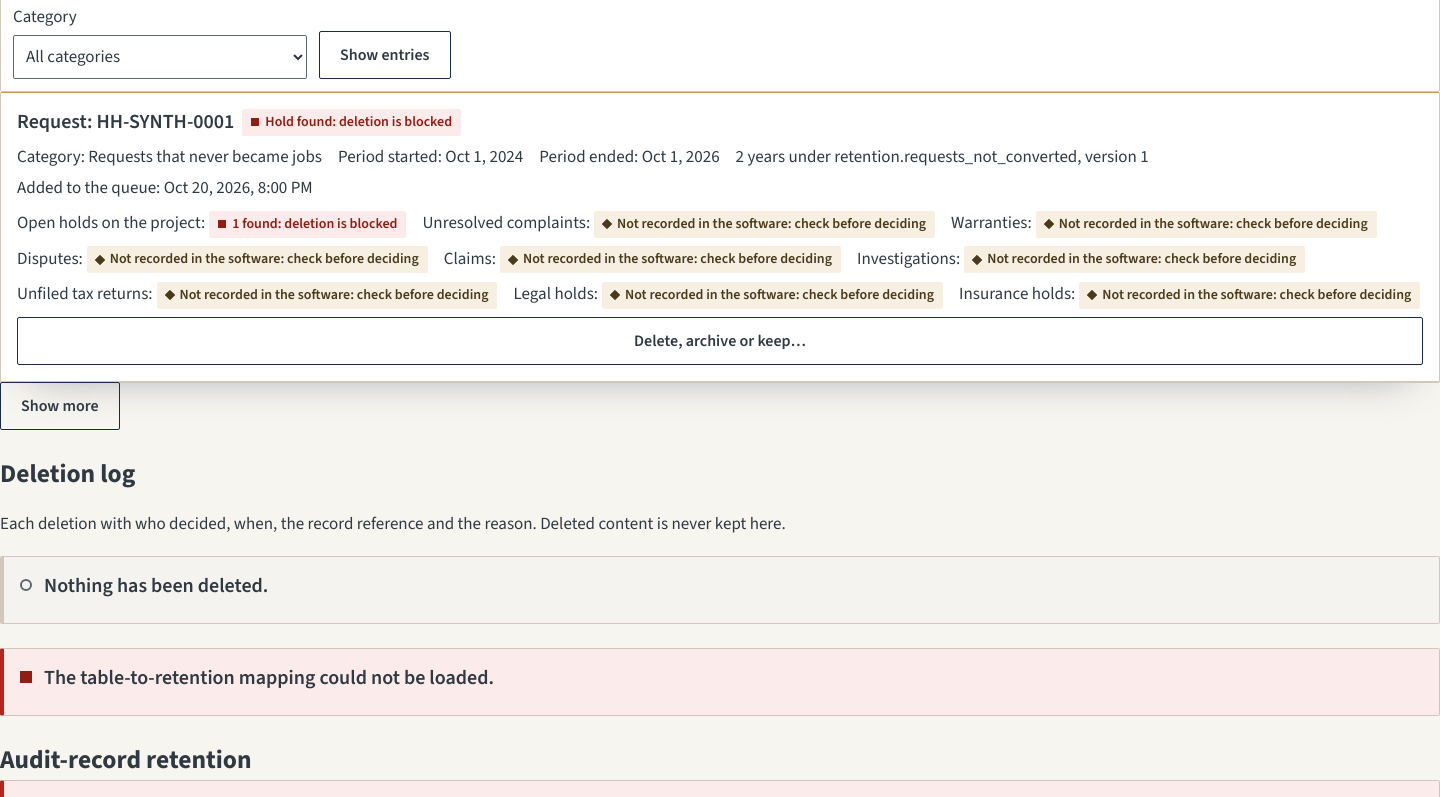
Test: retention reviews screen (TSK-0099, HH-PRIV-01) › [HH-PRIV-01] filters by category on the server and pages with the cursor
This screenshot has width=1440, height=797.
(page scrolled)
Check: the list item "Request: HH-SYNTH-0001" is shown, box x1=0 y1=92 x2=1439 y2=382
Click the button "Show more" at (60,406), box x1=0 y1=382 x2=120 y2=430
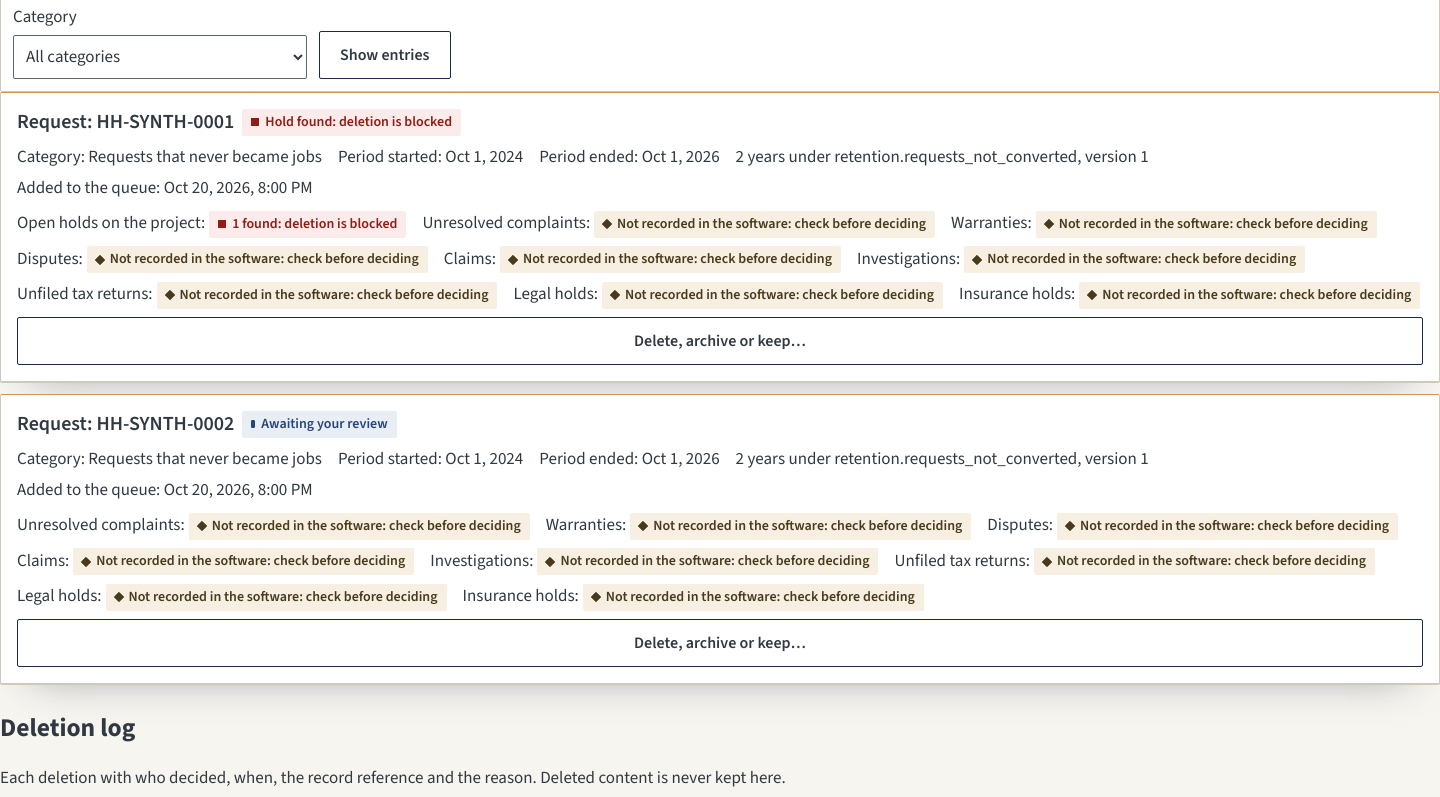
Check: the text "Awaiting your review" is shown, box x1=242 y1=411 x2=397 y2=438
Select "Audit-log records" in the dropdown labelled "Category" at (160,57), box x1=13 y1=35 x2=307 y2=79
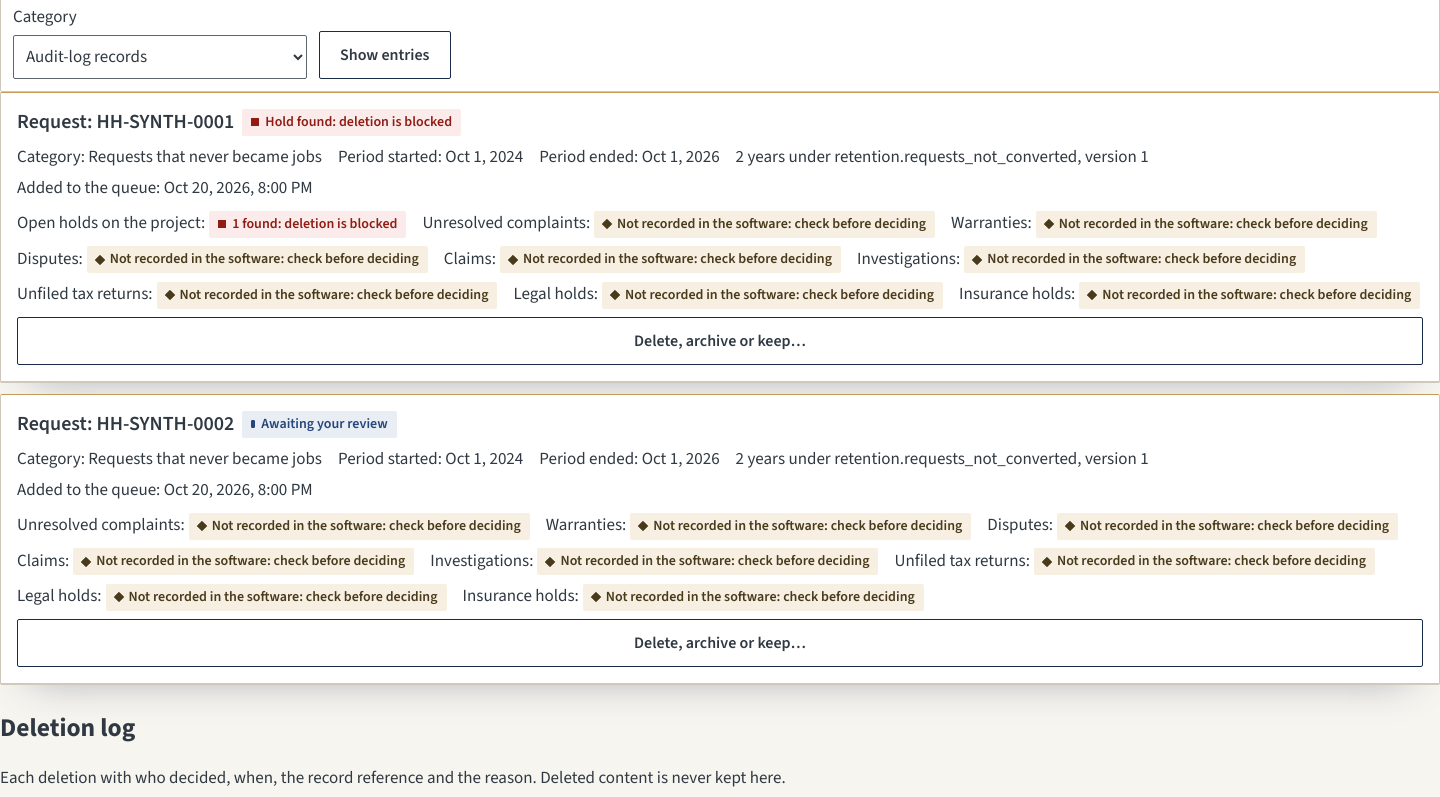
Click the button "Show entries" at (385,55), box x1=319 y1=31 x2=450 y2=79
(page scrolled)
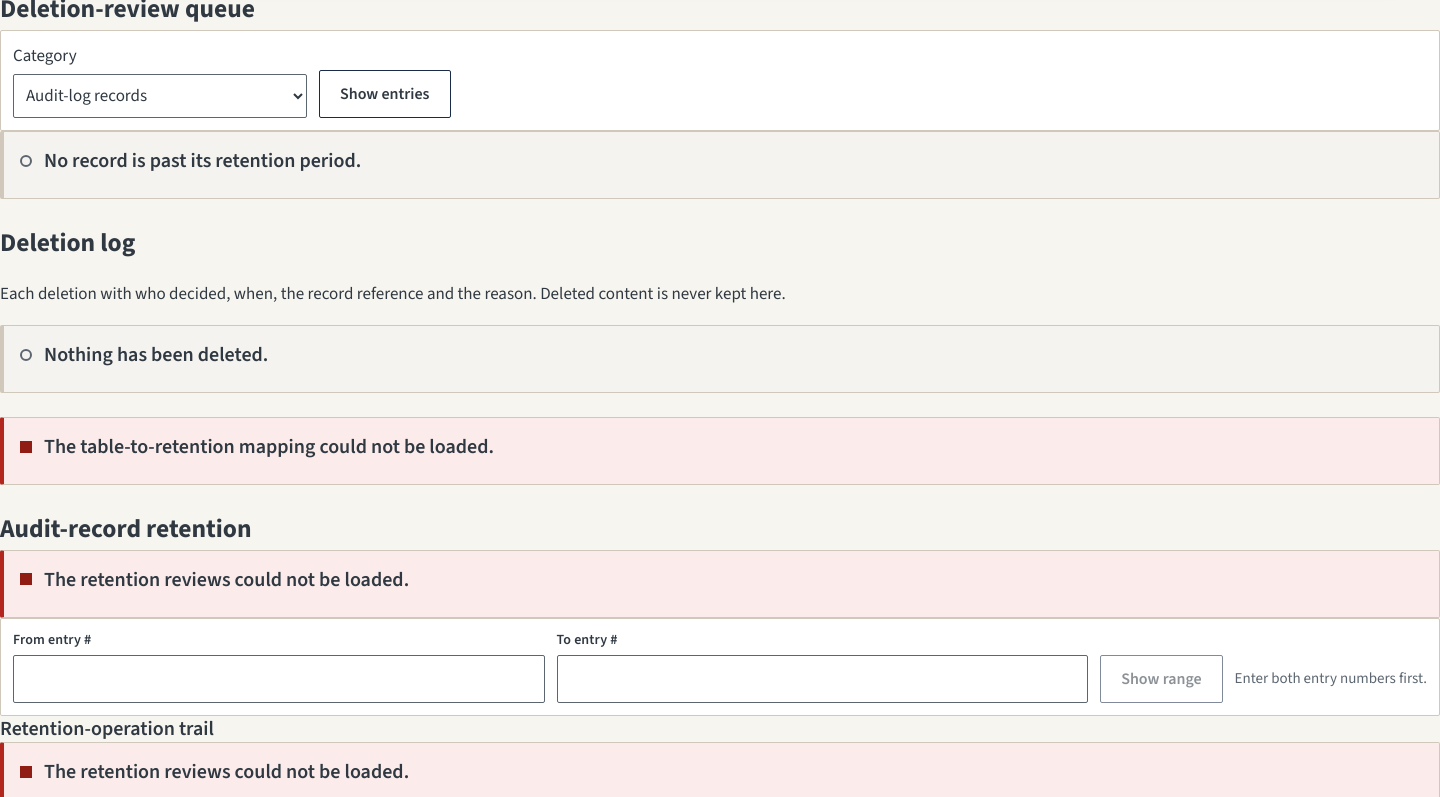
Check: the text "No record is past its retention period." is shown, box x1=44 y1=147 x2=361 y2=175
